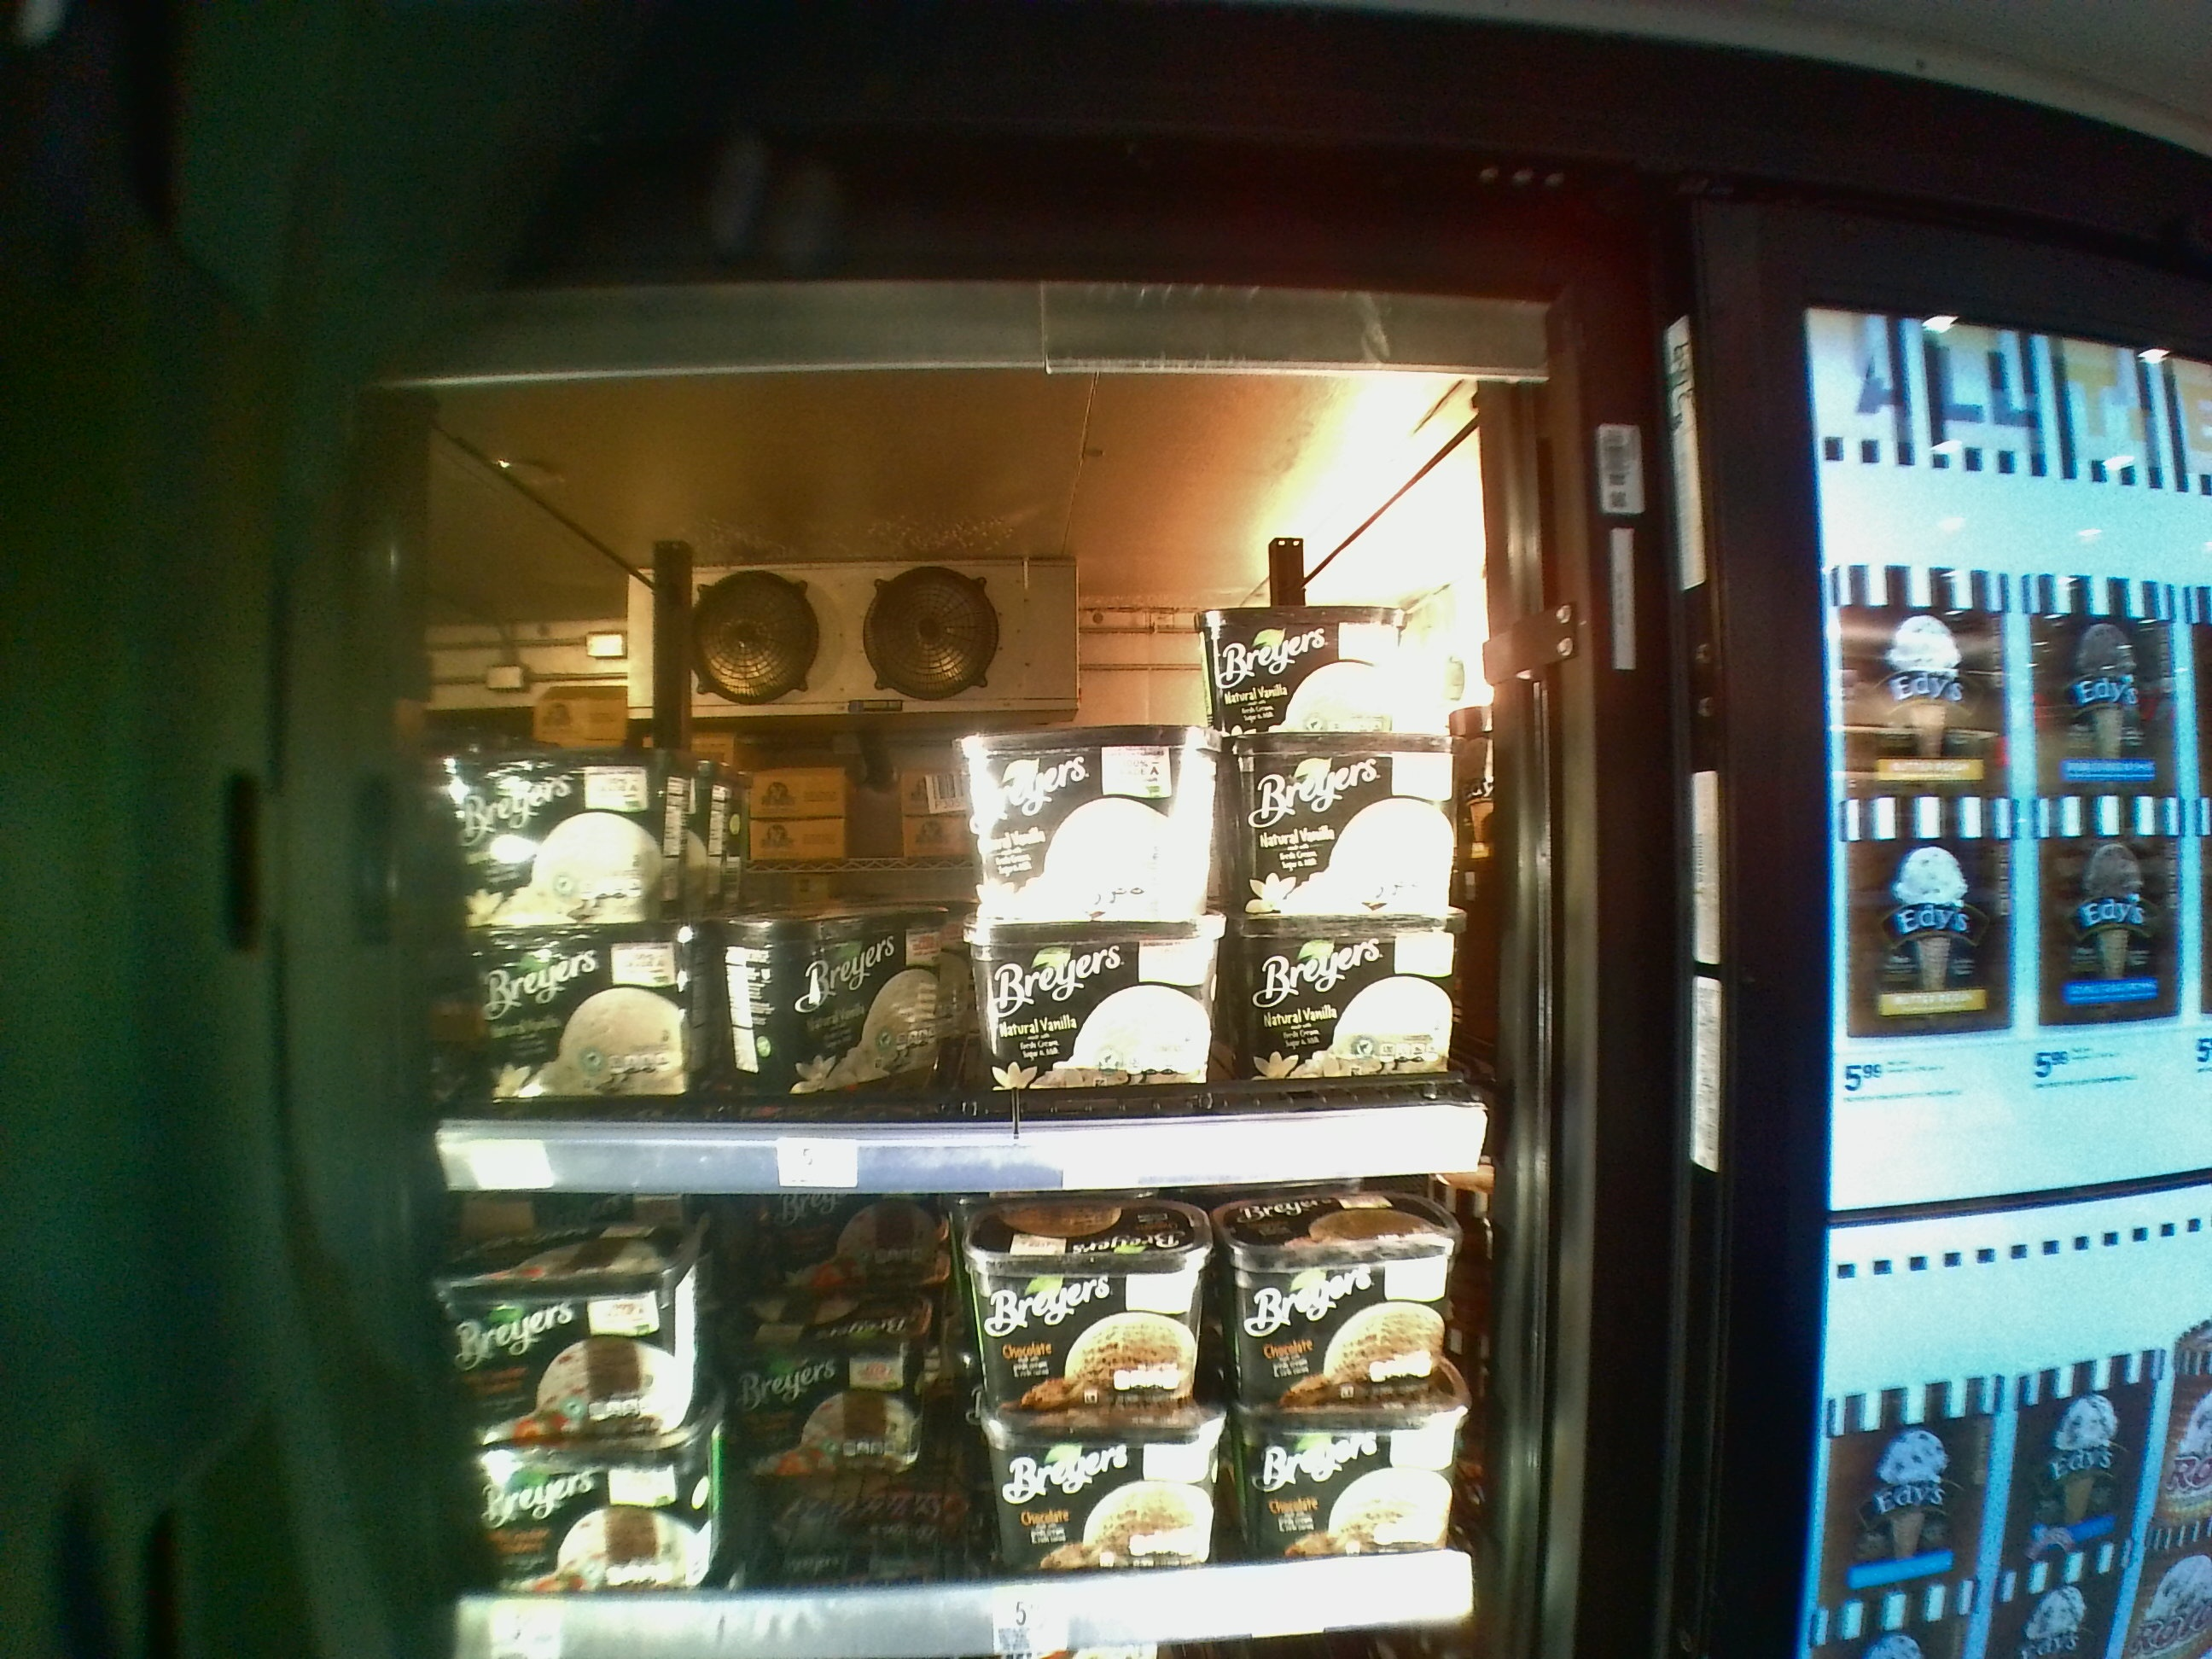shelf: (395, 376, 1480, 1183), (399, 1199, 1480, 1659)
